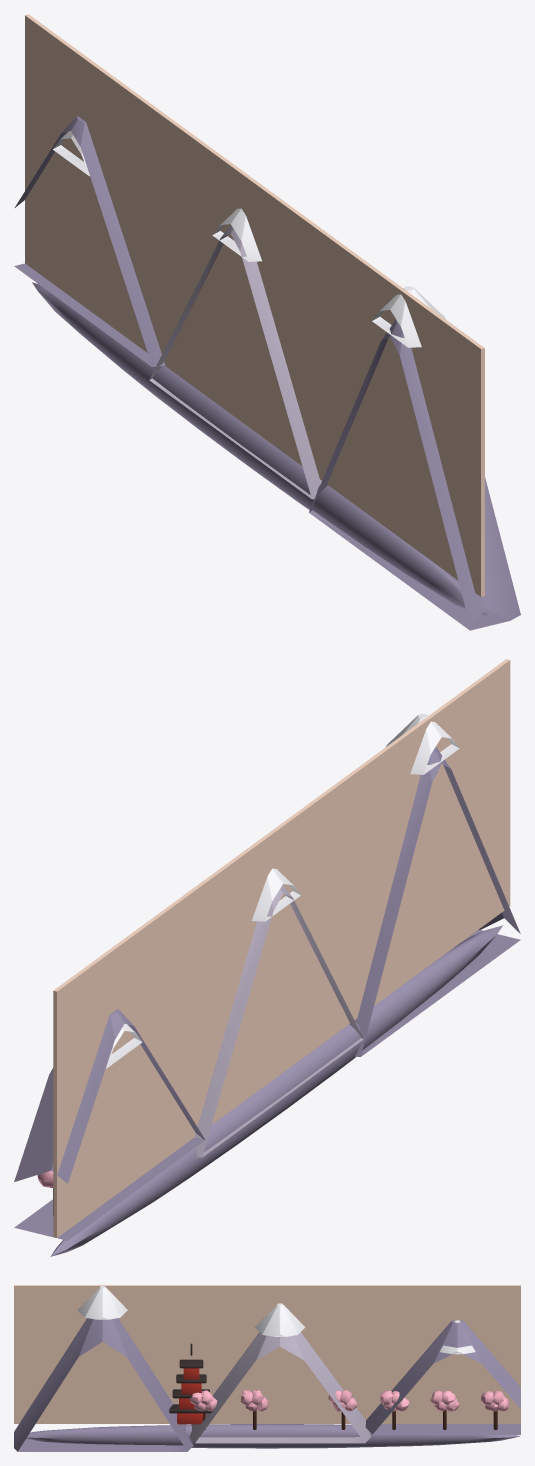
Rendered from BackdropZen.fbx.
3 views of the same model, one above another, from view 1: azimuth 30°, elevation 25°; view 2: azimuth 150°, elevation 25°; view 3: azimuth 270°, elevation 25° (orthographic). The views are drawn at different scales.
Visible parts, largest first — view 1: BackdropZen; view 2: BackdropZen; view 3: BackdropZen.
Boxes of the visible parts, <box> form: BackdropZen: <box>14,14,520,630</box>; BackdropZen: <box>14,659,520,1256</box>; BackdropZen: <box>14,1285,520,1451</box>.
Size of the model in its own units: 550 by 2803 by 8000.
